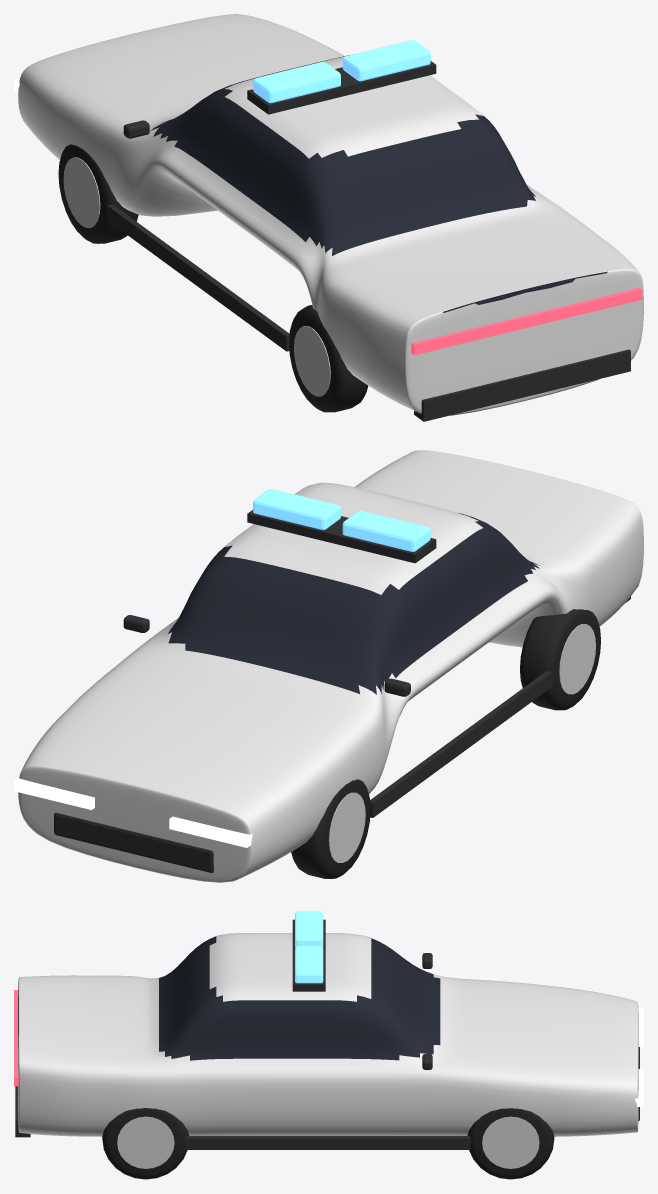
The model's file is car_police.glb.
The picture shows the model from 3 angles, top to bottom: view 1: azimuth 30°, elevation 25°; view 2: azimuth 150°, elevation 25°; view 3: azimuth 270°, elevation 25°; orthographic projection. The views are drawn at different scales.
Visible parts, largest first — view 1: paint, glass, trim, wheel_RL, wheel_FL, lamp_r, bar_blue, bar_red; view 2: paint, glass, trim, wheel_RL, wheel_FL, bar_red, lamp_f, bar_blue; view 3: paint, glass, trim, wheel_RR, wheel_FR, bar_blue, bar_red, lamp_f, lamp_r.
Boxes of the visible parts, left/top/right/bottom form: paint: left=18, top=14, right=643, bottom=415; glass: left=150, top=55, right=607, bottom=312; trim: left=107, top=61, right=630, bottom=421; wheel_RL: left=289, top=305, right=368, bottom=412; wheel_FL: left=58, top=144, right=138, bottom=243; lamp_r: left=411, top=287, right=642, bottom=355; bar_blue: left=342, top=40, right=430, bottom=81; bar_red: left=253, top=62, right=340, bottom=103; paint: left=18, top=450, right=643, bottom=882; glass: left=168, top=513, right=539, bottom=694; trim: left=54, top=510, right=630, bottom=872; wheel_RL: left=520, top=609, right=600, bottom=710; wheel_FL: left=291, top=779, right=370, bottom=878; bar_red: left=342, top=510, right=430, bottom=551; lamp_f: left=14, top=777, right=252, bottom=847; bar_blue: left=253, top=489, right=340, bottom=529; paint: left=18, top=933, right=638, bottom=1136; glass: left=18, top=935, right=440, bottom=1060; trim: left=15, top=919, right=639, bottom=1149; wheel_RR: left=102, top=1108, right=188, bottom=1179; wheel_FR: left=467, top=1108, right=554, bottom=1179; bar_blue: left=295, top=946, right=323, bottom=983; bar_red: left=295, top=911, right=323, bottom=947; lamp_f: left=635, top=1008, right=643, bottom=1106; lamp_r: left=14, top=990, right=18, bottom=1086.
Bounding box in the file's own units: 2.02 × 1.63 × 4.92.
